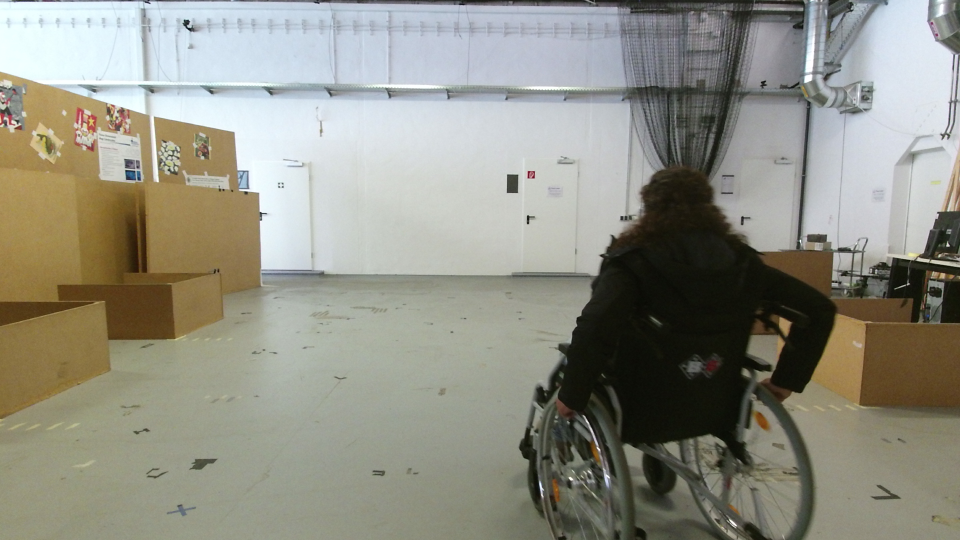wheelchair: (510, 156, 851, 540)
